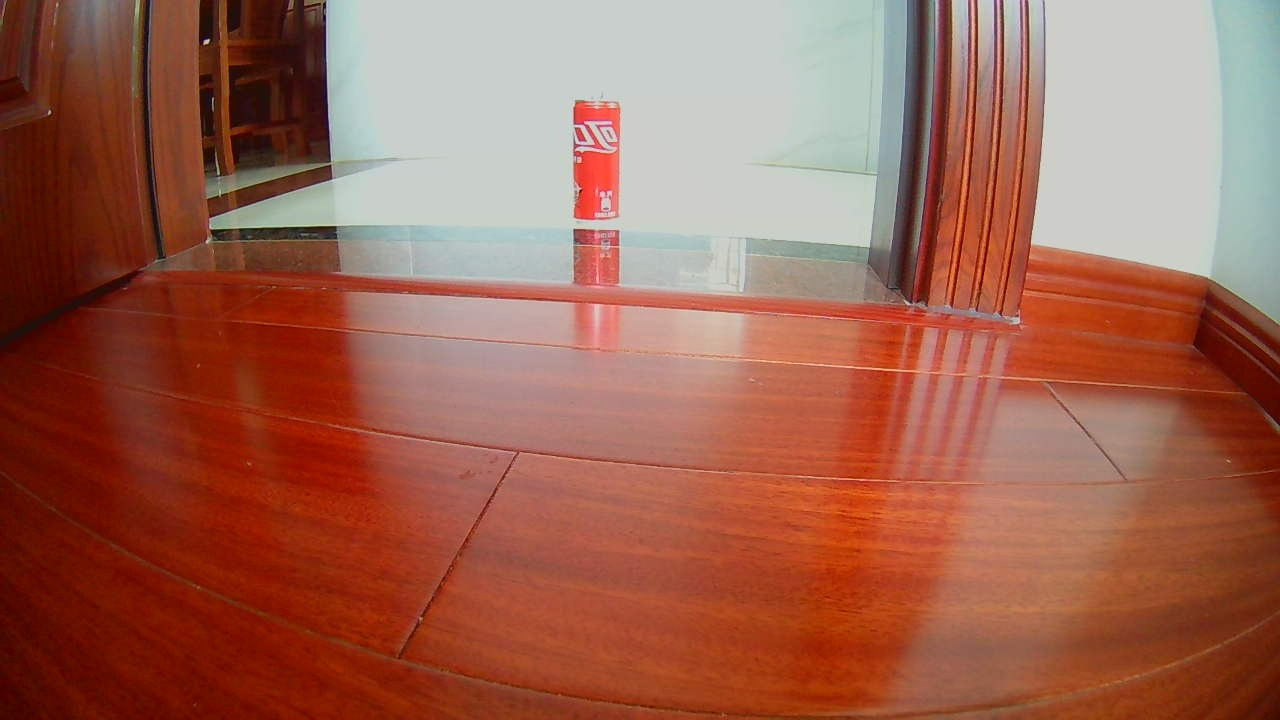cola: (571, 98, 622, 225)
